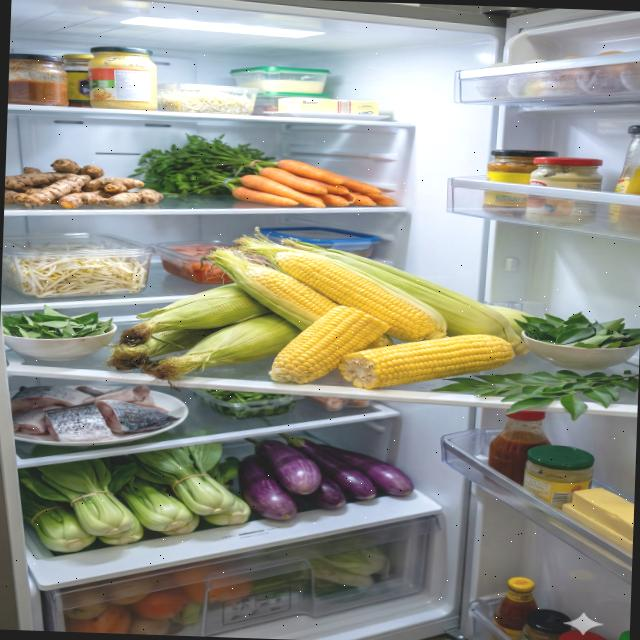bean_sprouts: (1, 238, 148, 301)
carrot: (231, 157, 398, 210)
corn: (104, 220, 541, 396)
curry_leaves: (428, 362, 638, 423), (512, 308, 640, 349), (1, 303, 114, 341)
eggplant: (235, 430, 416, 526)
fish: (8, 380, 180, 446)
pakchoy: (15, 434, 254, 558)
turmeric: (4, 156, 165, 212)
